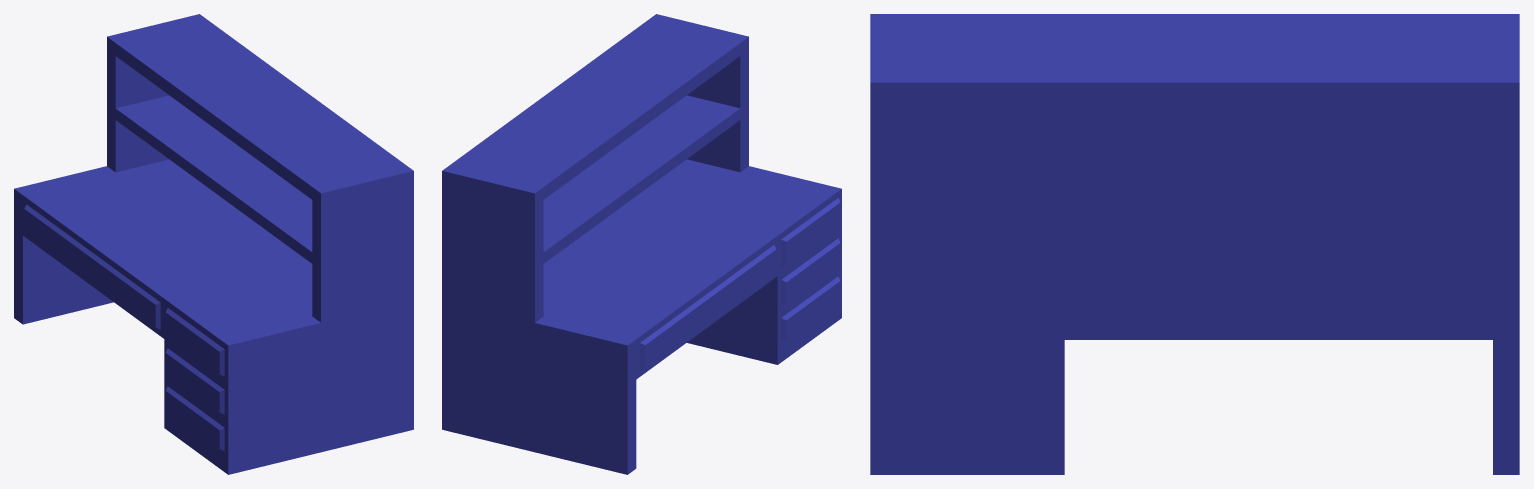
The model's file is deskStudyA.FBX.
3 renders of one model, left to right at view 1: azimuth 30°, elevation 25°; view 2: azimuth 150°, elevation 25°; view 3: azimuth 270°, elevation 25°, orthographic. The views are drawn at different scales.
Visible parts, largest first — view 1: deskStudyA_top; view 2: deskStudyA_top; view 3: deskStudyA_top.
Boxes of the visible parts, <box> form: deskStudyA_top: <box>14,14,413,474</box>; deskStudyA_top: <box>442,14,841,474</box>; deskStudyA_top: <box>870,14,1519,474</box>.
Bounding box in the file's own units: 1.53 × 2 × 3.
